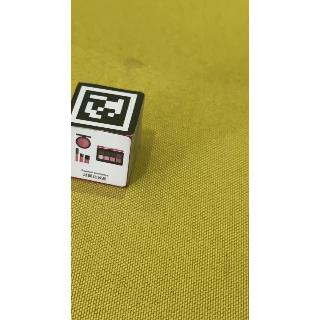Expired_Cosmetic: (73, 124, 136, 190)
